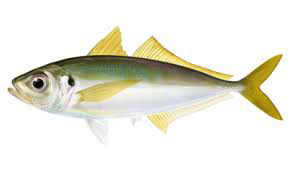azi: (8, 24, 283, 137)
